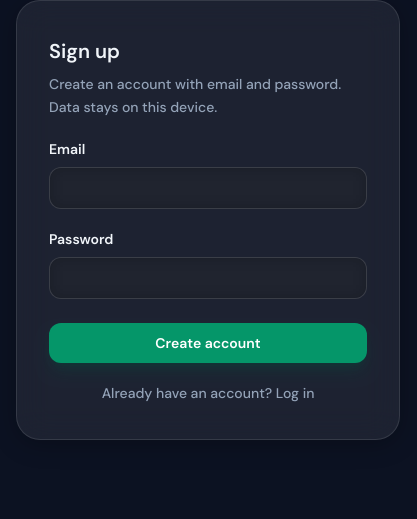
auth flow › shows an error for duplicate signup email
Type "taken@example.com" into the field with test id "auth-signup-email" at (208, 188), box [49,166,367,208]
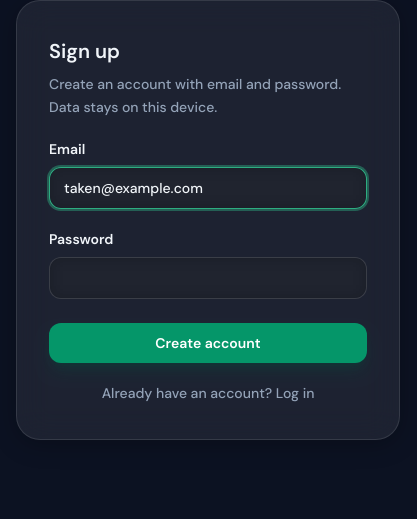
Type "secret12" into the password field with test id "auth-signup-password" at (208, 278), box [49,256,367,298]
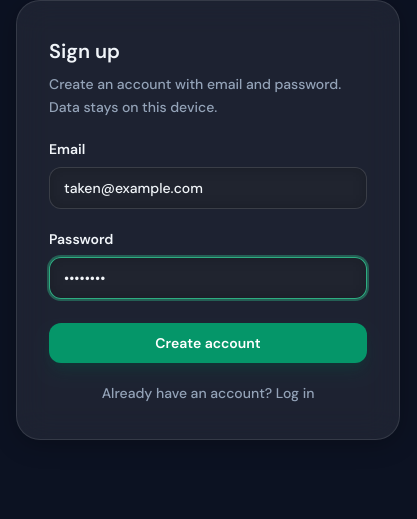
Click the button with test id "auth-signup-submit" at (208, 342), box [49,322,367,362]
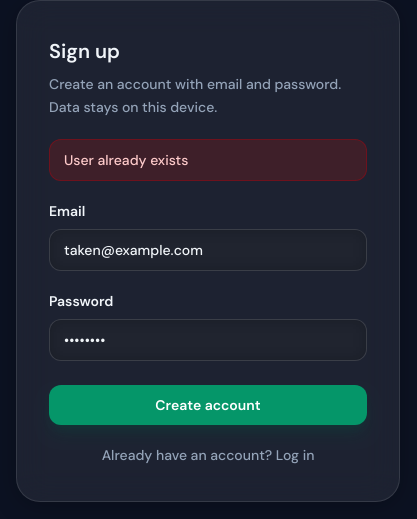
Expected: the text "User already exists" is shown, [49,138,367,180]
